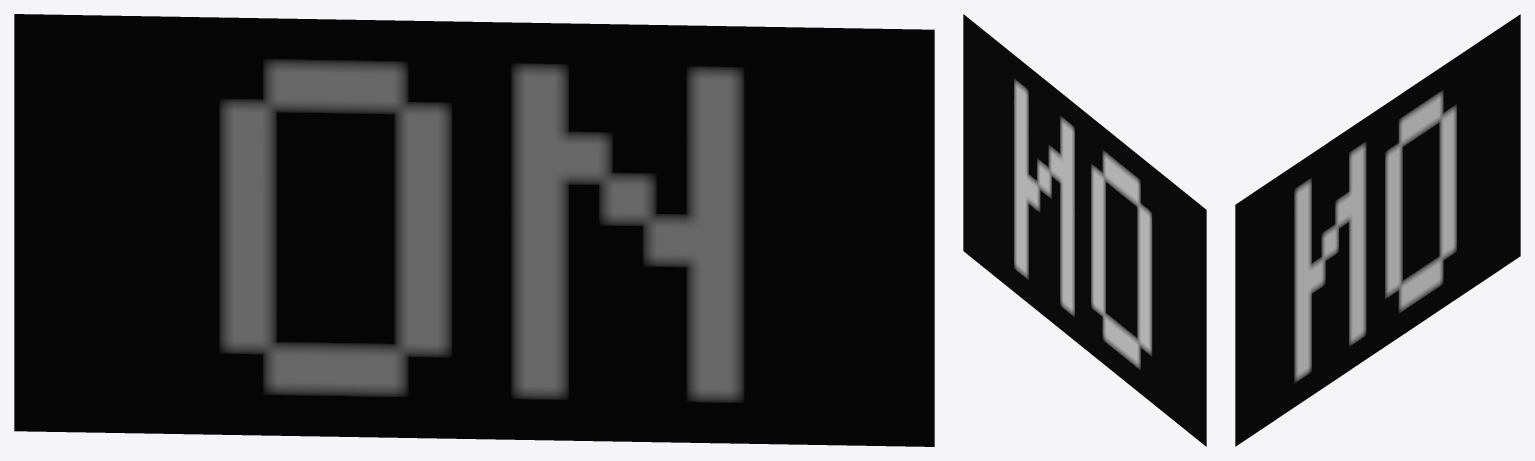
3 views of the same model, side by side, from view 1: azimuth 30°, elevation 25°; view 2: azimuth 150°, elevation 25°; view 3: azimuth 270°, elevation 25° (orthographic). The views are drawn at different scales.
Visible parts, largest first — view 1: Joint_0_Object_0; view 2: Joint_0_Object_0; view 3: Joint_0_Object_0.
Part boxes in pixels (x1,y1,x2,y2): Joint_0_Object_0: (14,14,934,446); Joint_0_Object_0: (963,14,1206,446); Joint_0_Object_0: (1235,14,1520,446).
Bounding box in the file's own units: 54.09 × 32 × 34.21.
1 material, 1 textured.
